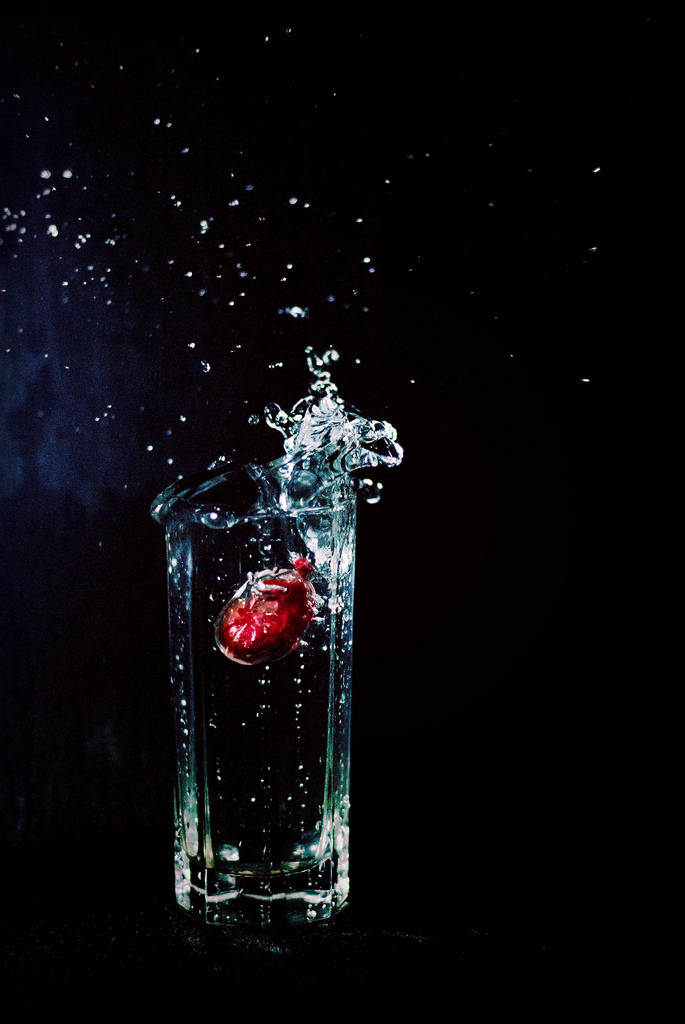glass of water: (141, 451, 383, 917)
